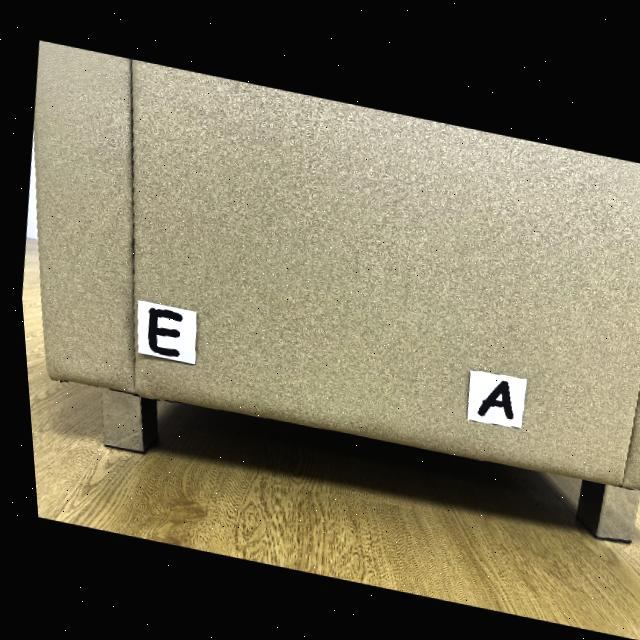A: (473, 374, 507, 413)
E: (143, 306, 178, 355)
